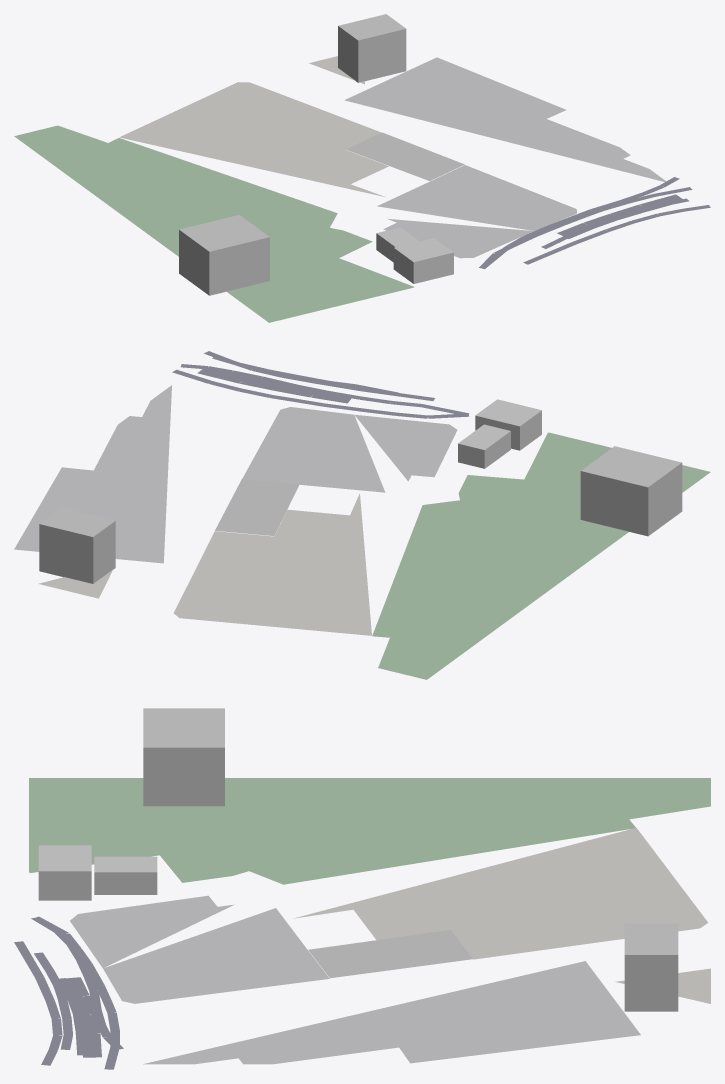
File: 136_98_mid.glb
3 views of the same model, one above another, from view 1: azimuth 30°, elevation 25°; view 2: azimuth 150°, elevation 25°; view 3: azimuth 270°, elevation 25° (orthographic). The views are drawn at different scales.
Bounding box in the file's own units: 531 × 47.6 × 511.
